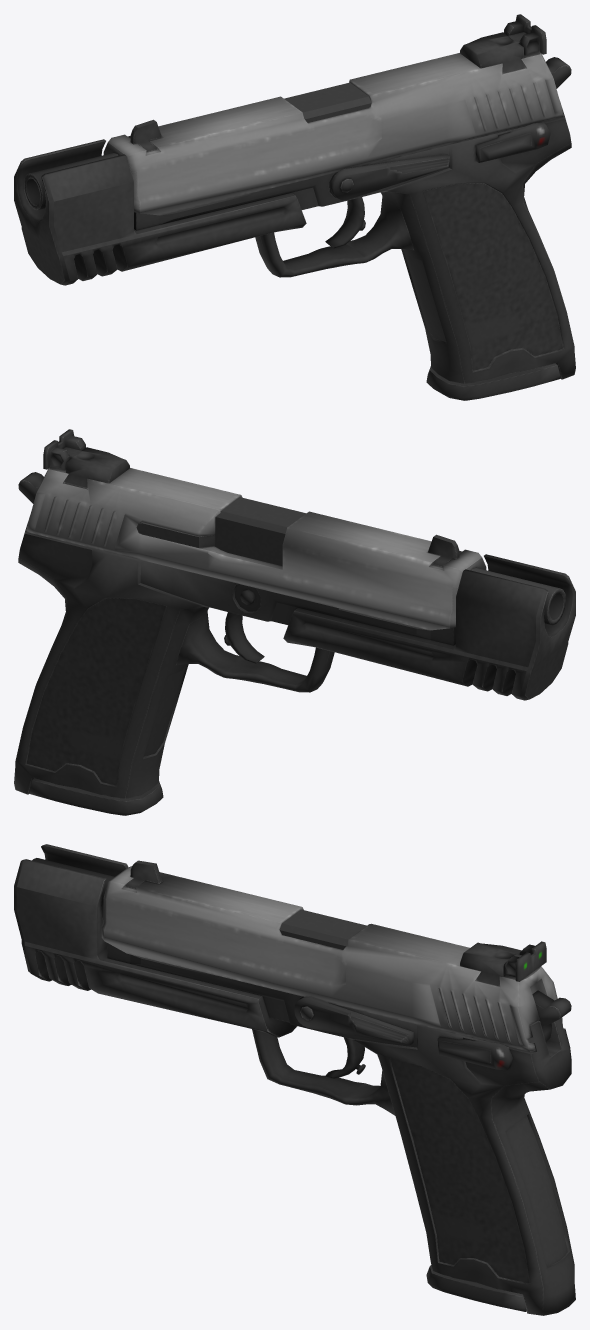
Rendered from USPGun.fbx.
3 views of the same model, one above another, from view 1: azimuth 30°, elevation 25°; view 2: azimuth 150°, elevation 25°; view 3: azimuth 330°, elevation 25° (orthographic).
Visible parts, largest first — view 1: Cube.011, Cube.012, Cube.018, Cube.015; view 2: Cube.011, Cube.012, Cube.018, Cube.015; view 3: Cube.011, Cube.012, Cube.018, Cylinder.009, Cube.015.
Part boxes in pixels (bbox=[...]): Cube.011: bbox=[14, 82, 575, 383]; Cube.012: bbox=[103, 14, 563, 215]; Cube.018: bbox=[426, 363, 560, 400]; Cube.015: bbox=[325, 197, 365, 248]; Cube.011: bbox=[14, 497, 575, 798]; Cube.012: bbox=[26, 429, 486, 630]; Cube.018: bbox=[29, 524, 174, 815]; Cube.015: bbox=[224, 612, 264, 663]; Cube.011: bbox=[14, 844, 575, 1315]; Cube.012: bbox=[101, 860, 562, 1051]; Cube.018: bbox=[426, 1265, 526, 1311]; Cylinder.009: bbox=[532, 990, 571, 1042]; Cube.015: bbox=[325, 1037, 365, 1078].
Bounding box in the file's own units: 542 × 334 × 77.53.
